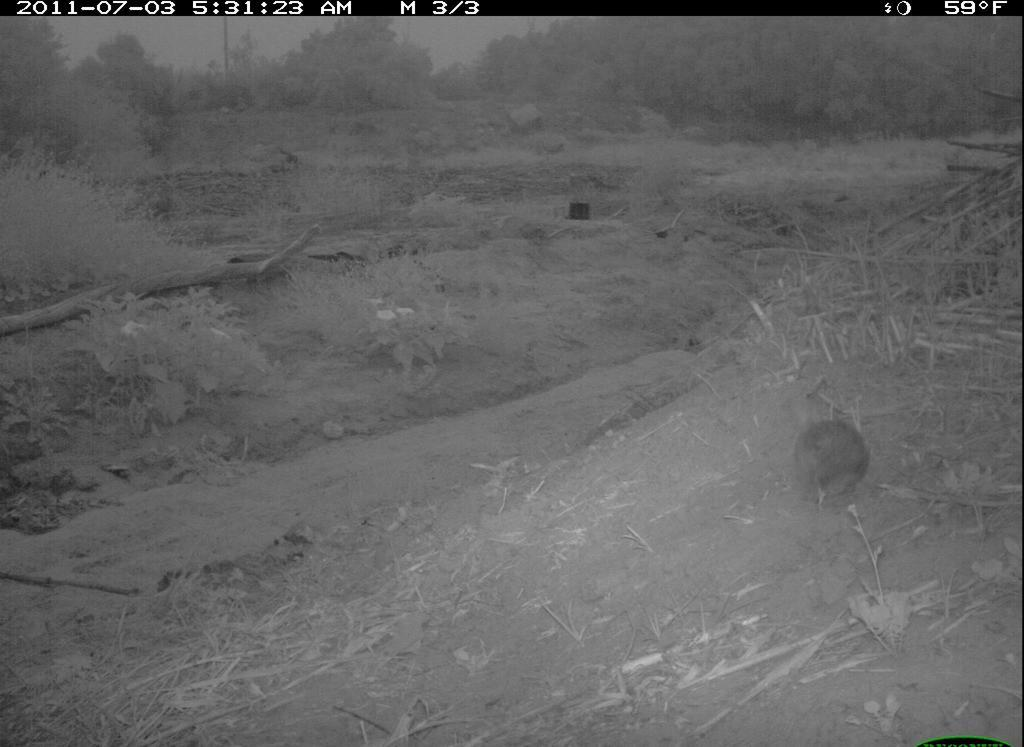rabbit: (790, 404, 875, 523)
